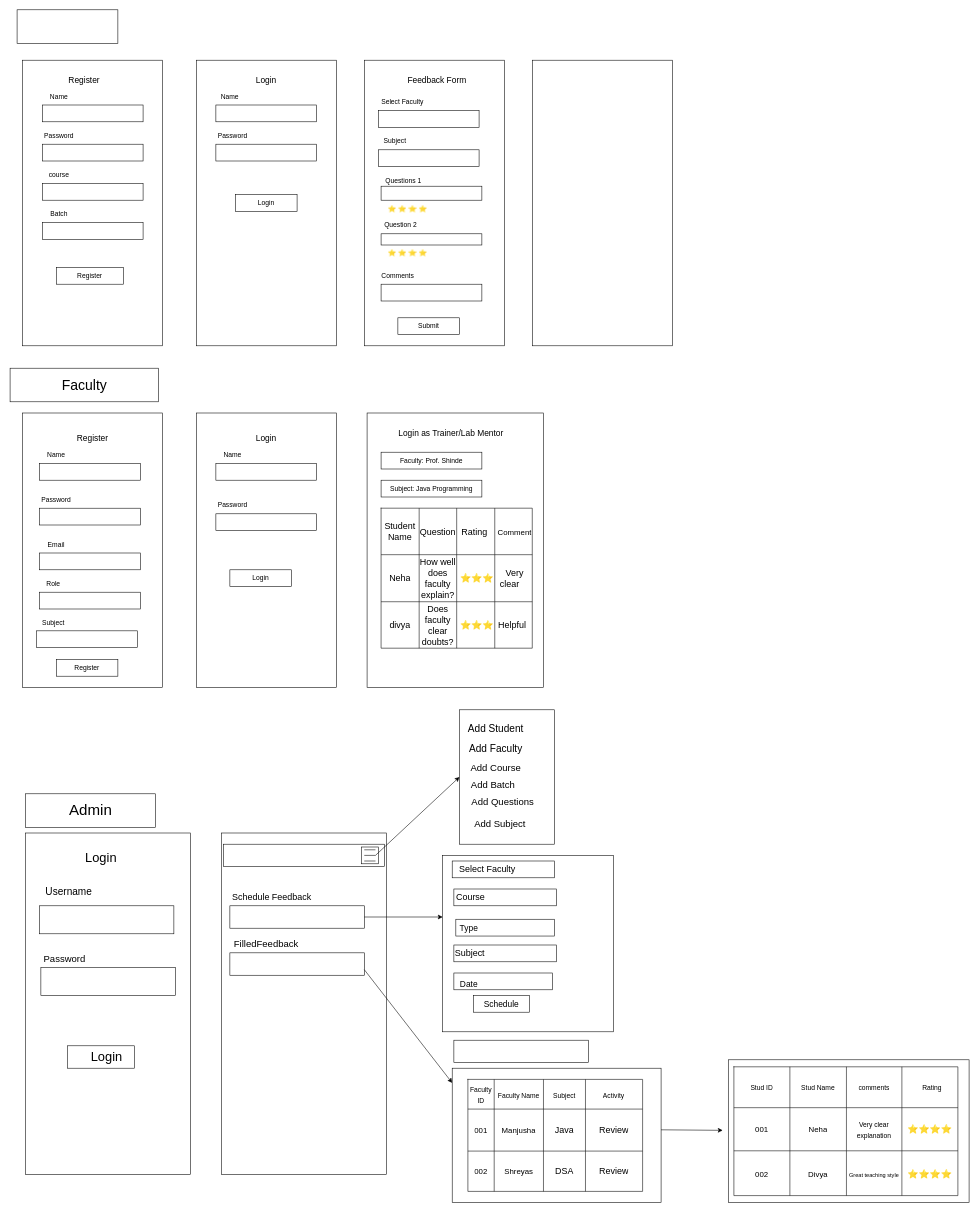
The diagram is 979 pixels wide and 1212 high, and some of its shapes have lost their labels. Here are the shapes that lost their labels. From the top down, the centre of each, then its label:
At (x=67, y=26): "Student".
At (x=602, y=203): "Feedback Submitted Succesfully".
At (x=520, y=1051): "Feedback Summary".
